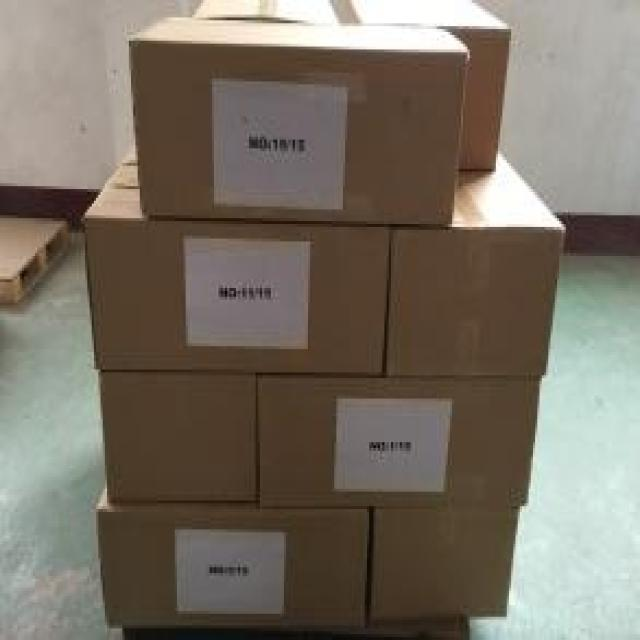box: (129, 17, 472, 227), (76, 163, 389, 372), (194, 0, 511, 172), (387, 145, 566, 378), (258, 369, 542, 512), (98, 483, 369, 628), (98, 375, 260, 506), (367, 506, 518, 625), (122, 134, 138, 163)
